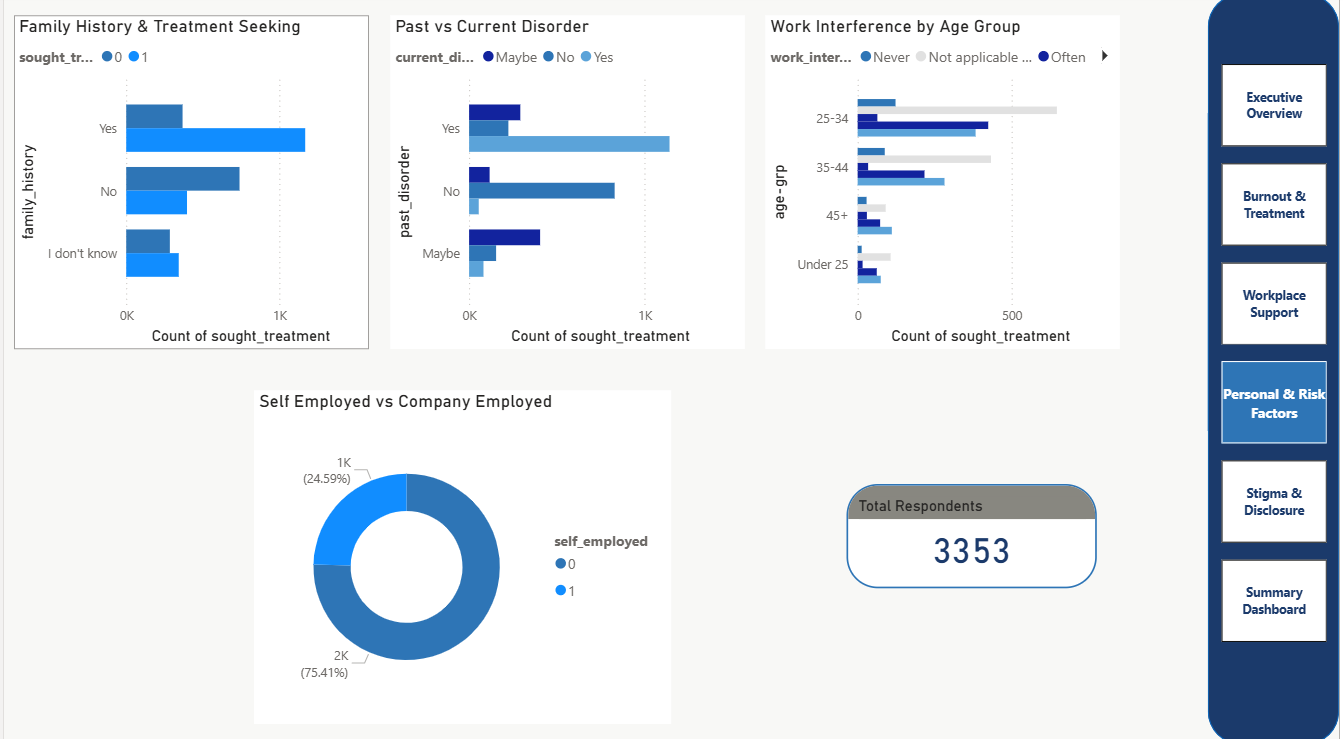

What the dashboard file says about the page in this screenshot:
{"tool":"powerbi","page":{"name":"Personal & Risk Factors","canvas":[1280,720],"ordinal":3},"visuals":[{"type":"clusteredBarChart","title":"Family History & Treatment Seeking","fields":{"Category":["survey_tbl.family_history"],"Y":["CountNonNull(survey_tbl.sought_treatment)"],"Series":["survey_tbl.sought_treatment"]},"box":[10,20,340,320],"z":0},{"type":"clusteredBarChart","title":"Past vs Current Disorder","fields":{"Category":["survey_tbl.past_disorder"],"Y":["CountNonNull(survey_tbl.sought_treatment)"],"Series":["survey_tbl.current_disorder"]},"box":[370,20,340,320],"z":1000},{"type":"clusteredBarChart","title":"Work Interference by Age Group","fields":{"Category":["survey_tbl.age-grp"],"Y":["CountNonNull(survey_tbl.sought_treatment)"],"Series":["survey_tbl.work_interfere_treated"]},"box":[730.2,20,340,320],"z":2000},{"type":"donutChart","title":"Self Employed vs Company Employed","fields":{"Category":["survey_tbl.self_employed"],"Y":["CountNonNull(survey_tbl.sought_treatment)"]},"box":[240,380,400,320],"z":3000},{"type":"shape","box":[1154,0,126,719.5],"z":4000},{"type":"pageNavigator","box":[1167.5,67.5,101.3,557.1],"z":5000},{"type":"card","title":"Total Respondents","fields":{"Values":["Measures (2).Total Respondents"]},"box":[807.5,470,240,100],"z":6000}]}

Visuals, with their boxes in screenshot pixels (x1, y1, x2, y2), scaled from the page's 1280x720 canvas onto the 1343x739 screenshot:
"Family History & Treatment Seeking" clusteredBarChart: {"x1": 10, "y1": 21, "x2": 367, "y2": 349}
"Past vs Current Disorder" clusteredBarChart: {"x1": 388, "y1": 21, "x2": 745, "y2": 349}
"Work Interference by Age Group" clusteredBarChart: {"x1": 766, "y1": 21, "x2": 1123, "y2": 349}
"Self Employed vs Company Employed" donutChart: {"x1": 252, "y1": 390, "x2": 672, "y2": 718}
shape: {"x1": 1211, "y1": 0, "x2": 1342, "y2": 738}
pageNavigator: {"x1": 1225, "y1": 69, "x2": 1331, "y2": 641}
"Total Respondents" card: {"x1": 847, "y1": 482, "x2": 1099, "y2": 585}
